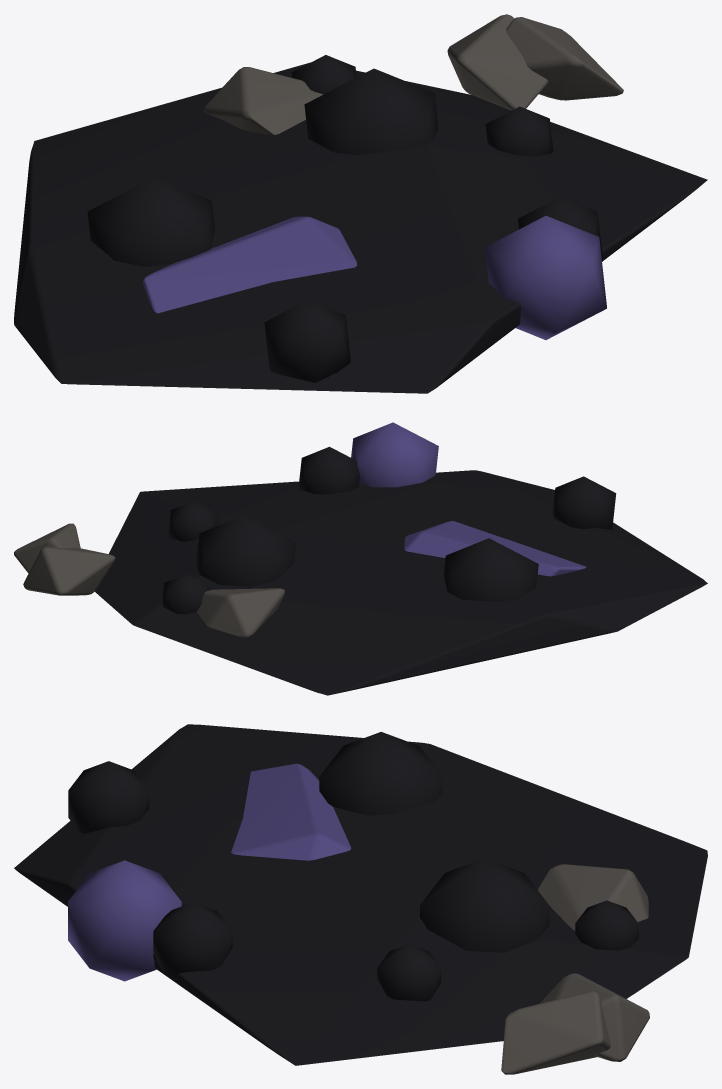
The model's file is minerai_petrole_2.glb.
The picture shows the model from 3 angles, top to bottom: view 1: azimuth 30°, elevation 25°; view 2: azimuth 150°, elevation 25°; view 3: azimuth 270°, elevation 25°; orthographic projection. The views are drawn at different scales.
Parts seen in each view (by area): view 1: petrole_petrole.004, petrole_irise.004, petrole_pierre_sombre.004; view 2: petrole_petrole.004, petrole_pierre_sombre.004, petrole_irise.004; view 3: petrole_petrole.004, petrole_irise.004, petrole_pierre_sombre.004.
Part boxes in pixels (bbox=[...]): petrole_petrole.004: bbox=[14, 55, 707, 393]; petrole_irise.004: bbox=[143, 215, 606, 339]; petrole_pierre_sombre.004: bbox=[204, 14, 623, 134]; petrole_petrole.004: bbox=[95, 446, 707, 695]; petrole_pierre_sombre.004: bbox=[14, 523, 285, 637]; petrole_irise.004: bbox=[351, 422, 586, 576]; petrole_petrole.004: bbox=[14, 724, 707, 1065]; petrole_irise.004: bbox=[68, 763, 351, 981]; petrole_pierre_sombre.004: bbox=[501, 864, 649, 1074].
Size of the model in its own units: 0.3612 by 0.0673 by 0.3075.
